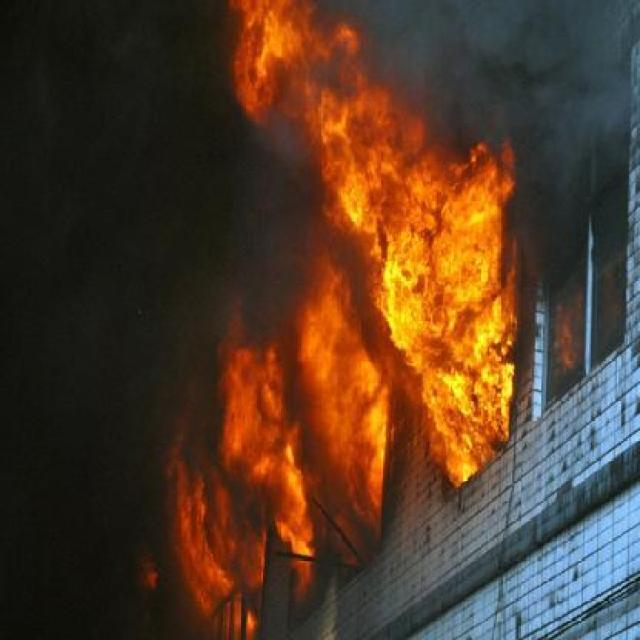Fire: (156, 0, 523, 640)
